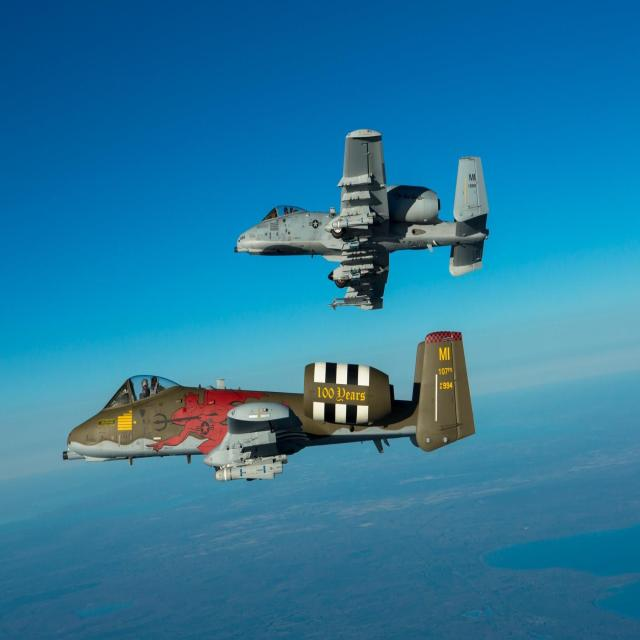MIL_Plane: (62, 331, 476, 482), (234, 128, 489, 311)
